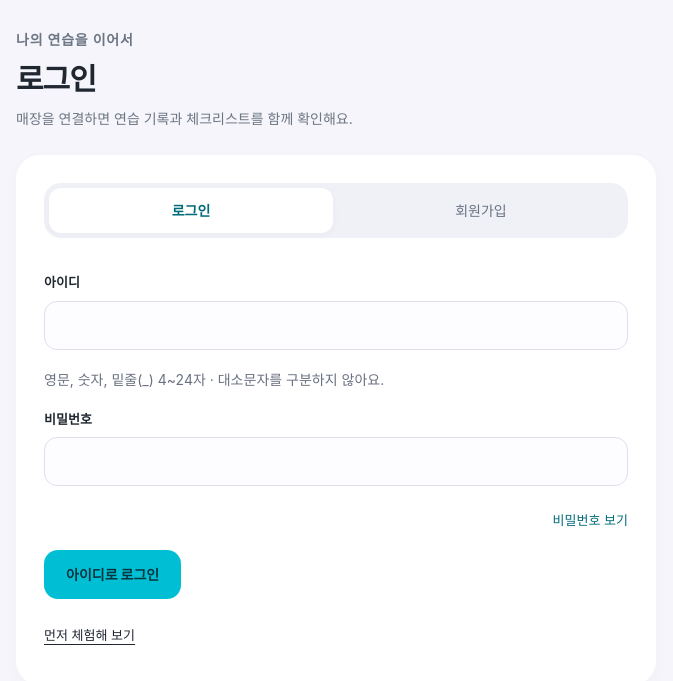
Test: does not describe a rate limit as an incorrect password
Type "My_ID" into the field labelled "아이디".
click(336, 325); type("My_ID")  # box [44,301,628,350]
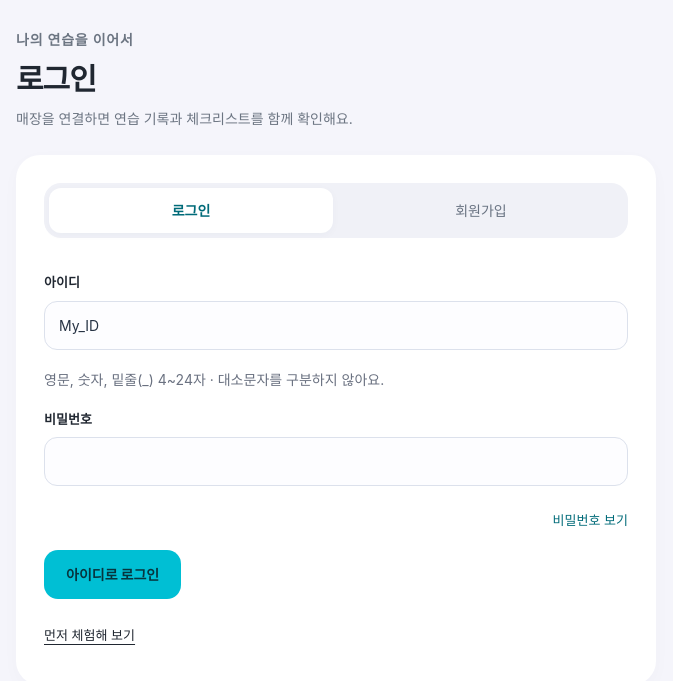
Type "test-password-123" into the password field labelled "비밀번호".
click(336, 462); type("test-password-123")  # box [44,437,628,486]
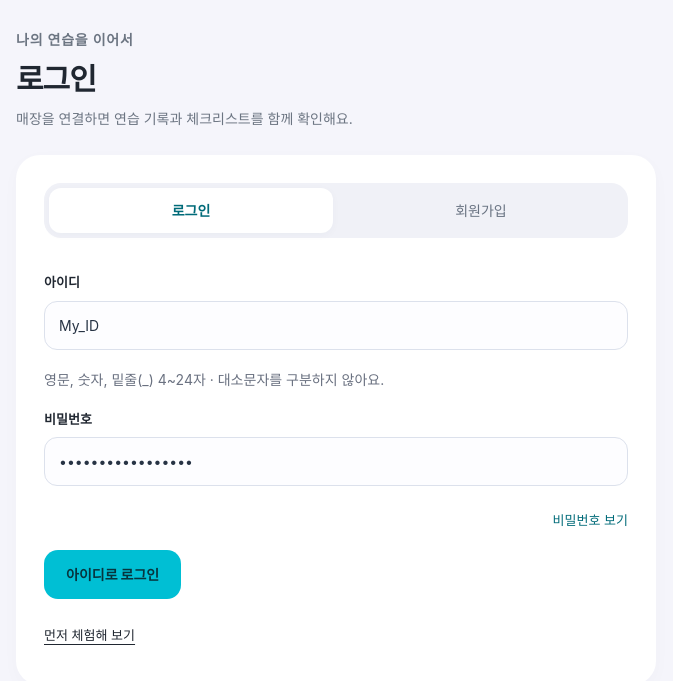
Click the button "아이디로 로그인".
click(113, 575)  # box [44,550,181,599]
(page scrolled)
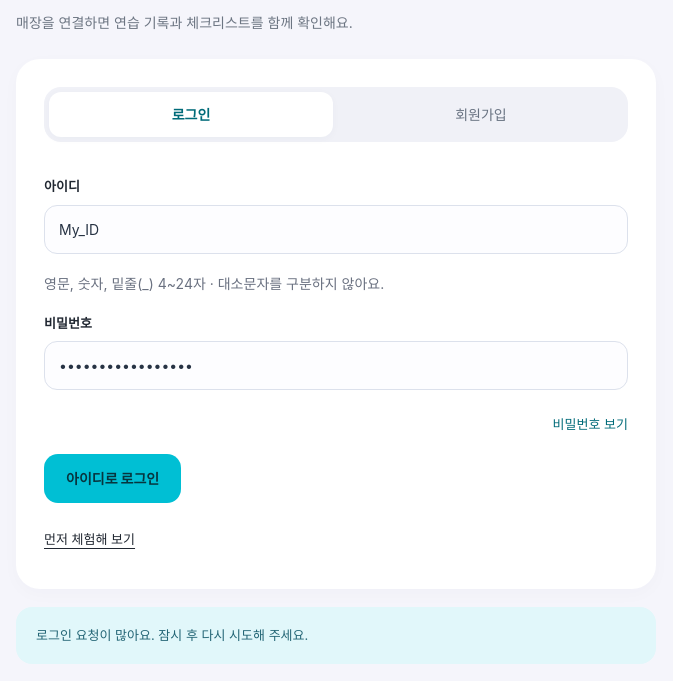
Expected: the text "로그인 요청이 많아요. 잠시 후 다시 시도해 주세요." is shown, [16,607,656,664]
